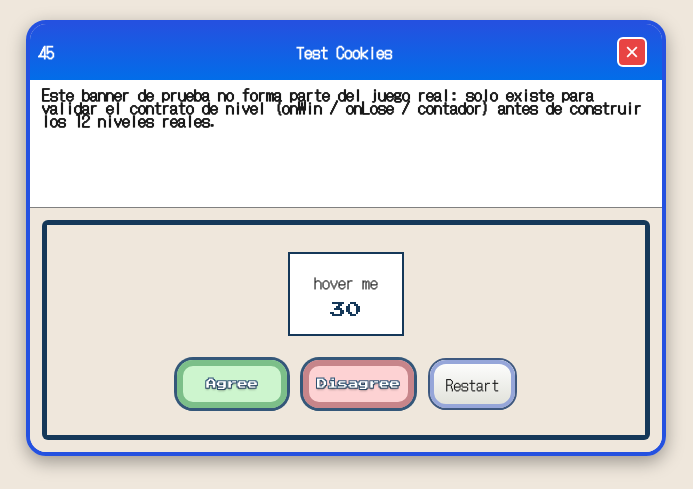
LevelHost — onRestart (005-plan.md) › resets to 100, not to the reload-resume value, when restarting mid-level
This screenshot has width=693, height=489.
Expected: the text "Restart" is shown, [446,373,499,395]
Click the button "Restart" at (472,384), box [430,360,515,408]
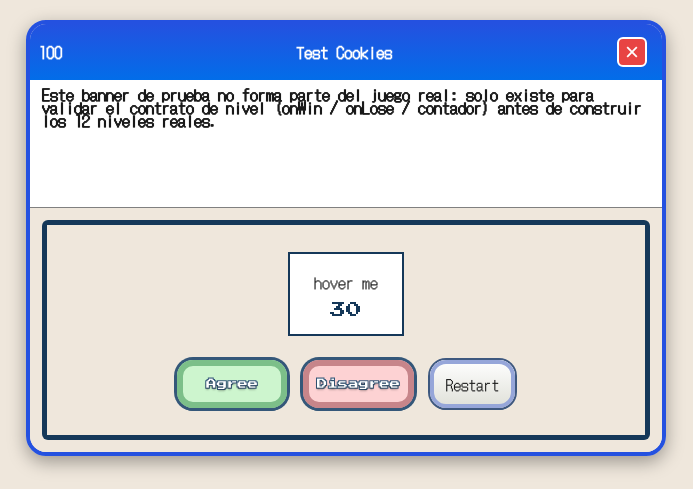
Now the text "100" is shown, box [38,40,62,64]
